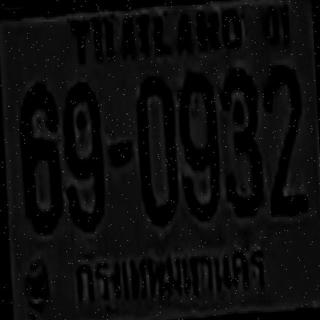N00: (176, 70, 222, 219), (134, 74, 179, 223)
N02: (262, 63, 307, 217)
N03: (219, 66, 264, 215)
N06: (17, 80, 63, 232)
N09: (60, 78, 106, 230), (176, 70, 222, 219)
P04: (70, 244, 274, 308)
